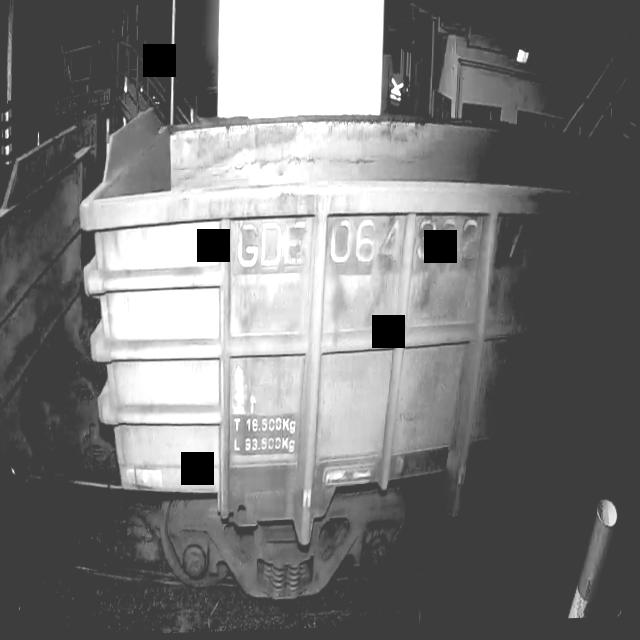gondola: (63, 88, 618, 626)
